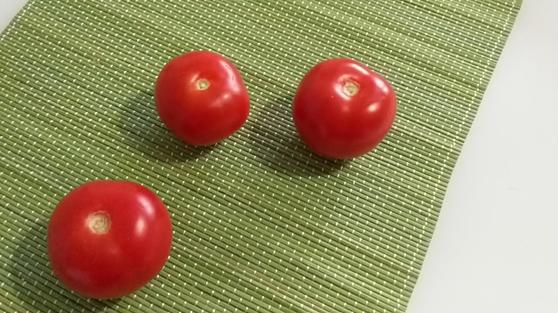tomato: (49, 180, 172, 299), (292, 58, 399, 160), (157, 49, 249, 148)
